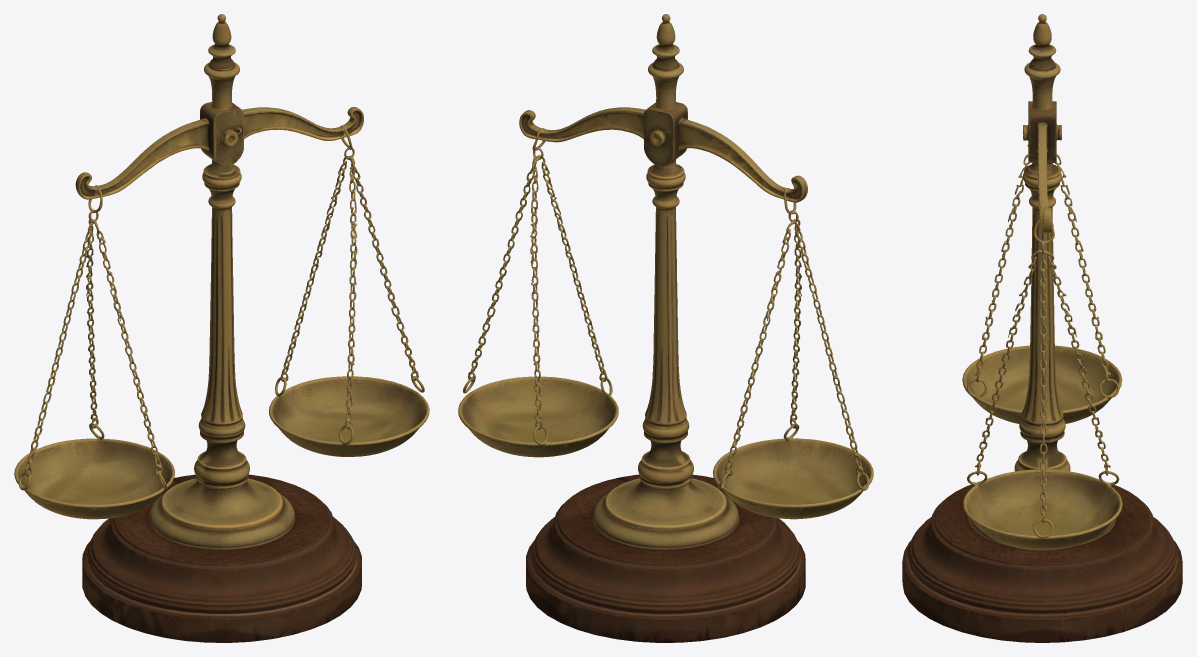
File: balanza.glb
3 renders of one model, left to right at view 1: azimuth 30°, elevation 25°; view 2: azimuth 150°, elevation 25°; view 3: azimuth 270°, elevation 25°, orthographic.
Bounding box in the file's own units: 1.4 × 1.9 × 0.8475.
1 material, 1 textured.
